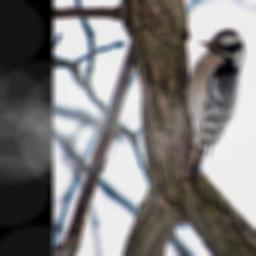Woodpecker: (171, 29, 244, 180)
